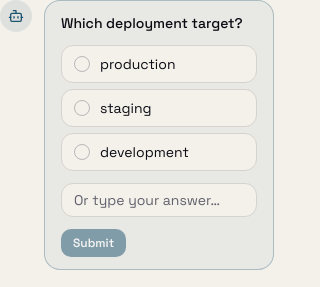
Test case: UserInputPrompt › shows answered state after submission
Click the radio button "staging".
click(159, 108)  # box [61, 89, 257, 127]
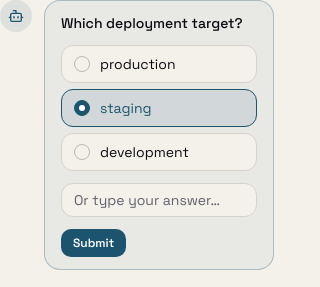
Click the button "Submit".
click(94, 243)  # box [61, 229, 126, 257]
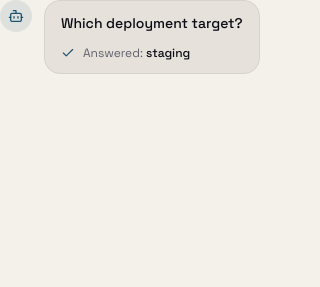
Expected: the text "staging" is shown, [146, 45, 190, 61]
Now the text "Answered: staging" is shown, box [83, 45, 190, 61]
